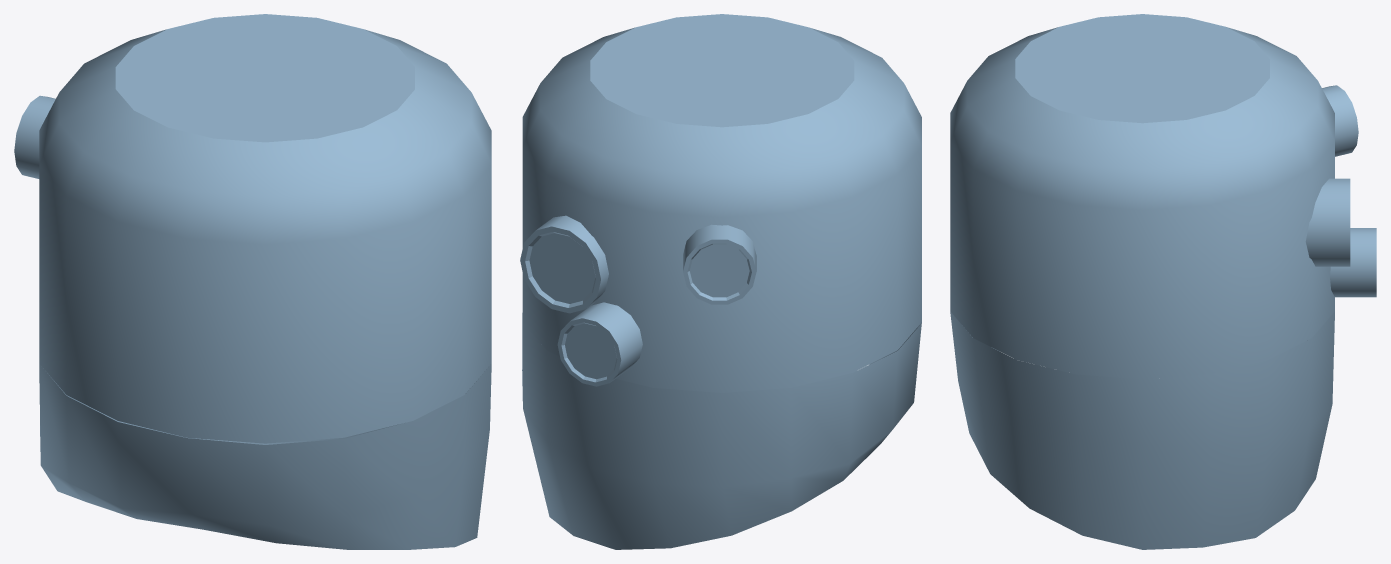
The model's file is probe bk.FBX.
3 renders of one model, left to right at view 1: azimuth 30°, elevation 25°; view 2: azimuth 150°, elevation 25°; view 3: azimuth 270°, elevation 25°, orthographic. The views are drawn at different scales.
Parts seen in each view (by area): view 1: Cylinder1471, probe bk_ncl1_1; view 2: Cylinder1471, probe bk_ncl1_1; view 3: Cylinder1471, probe bk_ncl1_1.
Boxes of the visible parts, x1,y1,x2,y2 form: Cylinder1471: (14, 14, 491, 443); probe bk_ncl1_1: (39, 364, 491, 549); Cylinder1471: (520, 14, 921, 392); probe bk_ncl1_1: (522, 313, 921, 549); Cylinder1471: (950, 14, 1376, 379); probe bk_ncl1_1: (950, 311, 1334, 549).
Size of the model in its own units: 0.00835 by 0.00911 by 0.00979.
